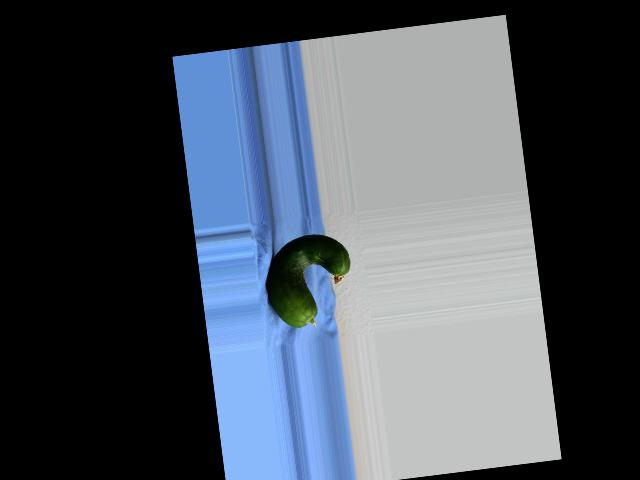cucumber: (261, 230, 357, 331)
